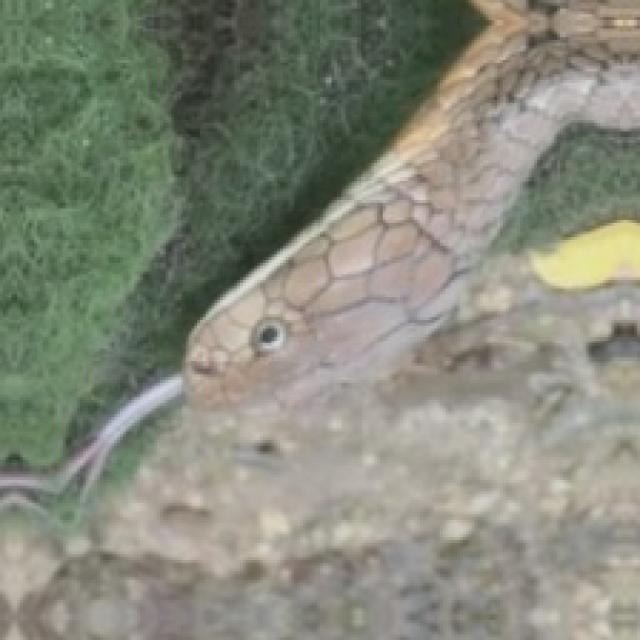king cobra: (174, 0, 637, 463)
